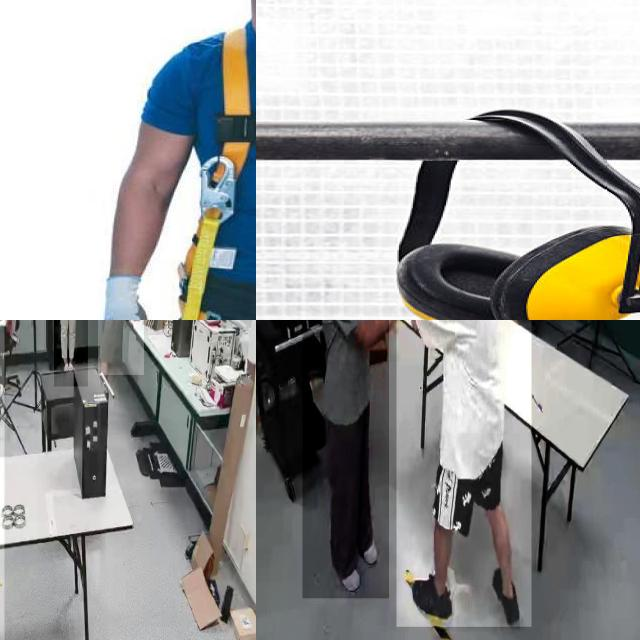Ear-protection: (404, 104, 640, 320)
Harness: (161, 16, 256, 320)
person: (396, 320, 531, 628), (302, 320, 389, 599), (97, 320, 144, 375), (53, 320, 88, 387)
shoes: (409, 570, 456, 624), (491, 560, 522, 624)
